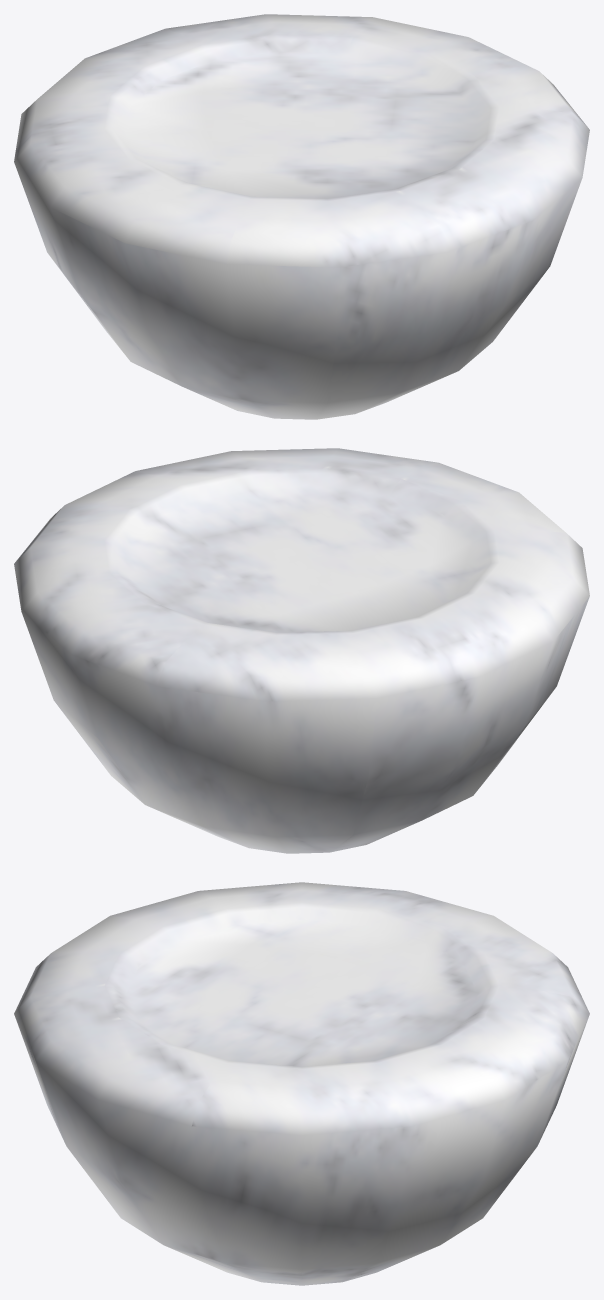
The model's file is TeleportBase.fbx.
3 views of the same model, one above another, from view 1: azimuth 30°, elevation 25°; view 2: azimuth 150°, elevation 25°; view 3: azimuth 270°, elevation 25° (orthographic).
Visible parts, largest first — view 1: TeleportBase; view 2: TeleportBase; view 3: TeleportBase.
Boxes of the visible parts, box(x1,y1,x2,y2) form: TeleportBase: box(14, 14, 589, 419); TeleportBase: box(14, 448, 589, 853); TeleportBase: box(14, 882, 589, 1285).
Size of the model in its own units: 307 by 161 by 307.
